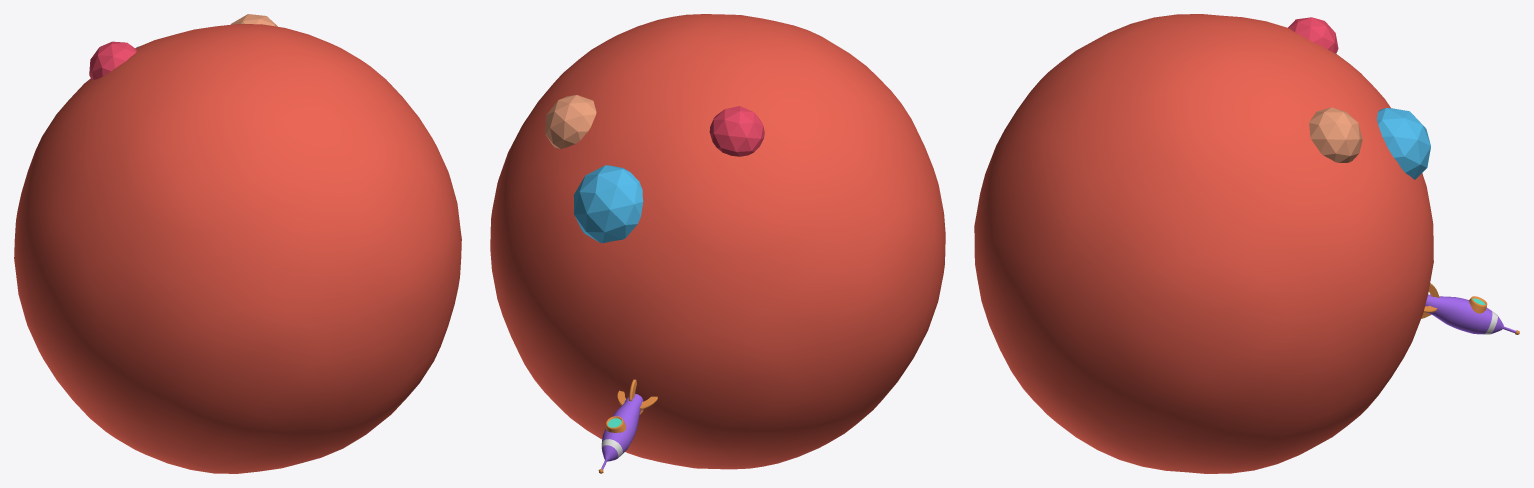
The model's file is mars.glb.
3 views of the same model, side by side, from view 1: azimuth 30°, elevation 25°; view 2: azimuth 150°, elevation 25°; view 3: azimuth 270°, elevation 25° (orthographic). The views are drawn at different scales.
Visible parts, largest first — view 1: MarsSurface, Icosphere.002; view 2: MarsSurface, Icosphere.001, Icosphere.002, Rocket, Icosphere; view 3: MarsSurface, Icosphere.001, Rocket, Icosphere, Icosphere.002.
Part boxes in pixels (left/top/right/bottom): MarsSurface: left=14, top=24, right=461, bottom=473; Icosphere.002: left=89, top=41, right=136, bottom=79; MarsSurface: left=490, top=14, right=945, bottom=469; Icosphere.001: left=573, top=165, right=643, bottom=243; Icosphere.002: left=709, top=106, right=764, bottom=156; Rocket: left=598, top=379, right=657, bottom=473; Icosphere: left=545, top=95, right=596, bottom=148; MarsSurface: left=974, top=14, right=1433, bottom=473; Icosphere.001: left=1377, top=108, right=1430, bottom=179; Rocket: left=1421, top=283, right=1519, bottom=334; Icosphere: left=1309, top=107, right=1362, bottom=162; Icosphere.002: left=1288, top=17, right=1338, bottom=53.
Size of the model in its own units: 6.21 by 6.15 by 7.29.
